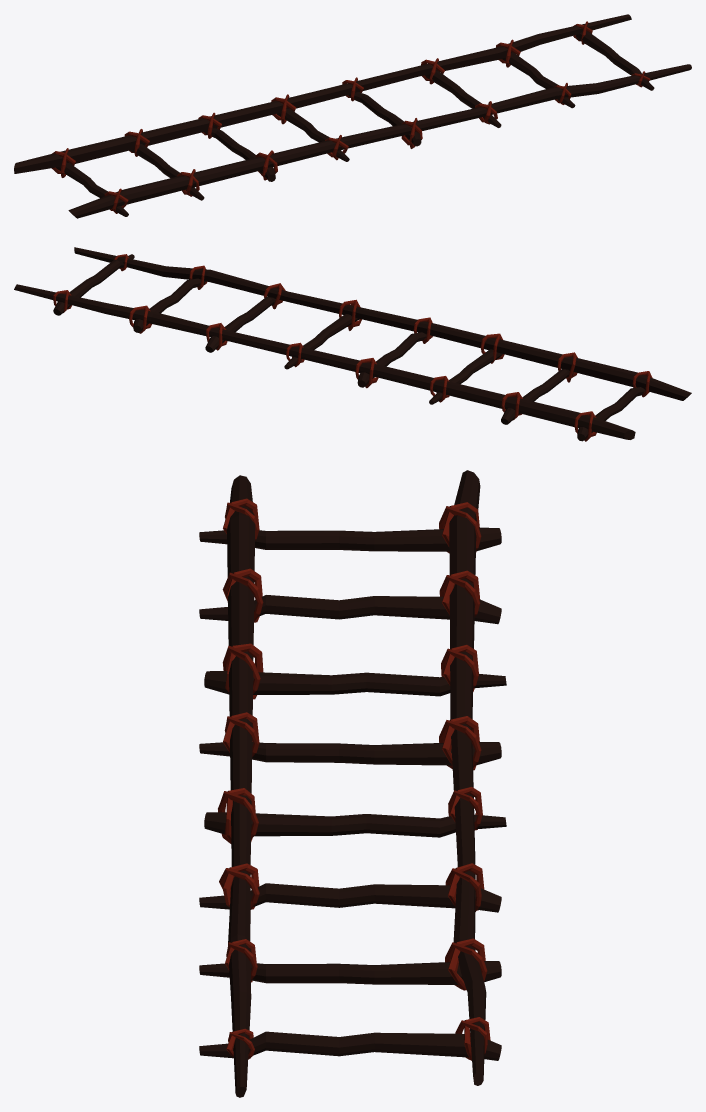
The model's file is ladder.FBX.
3 renders of one model, top to bottom at view 1: azimuth 30°, elevation 25°; view 2: azimuth 150°, elevation 25°; view 3: azimuth 270°, elevation 25°, orthographic. The views are drawn at different scales.
Parts seen in each view (by area): view 1: Ladder_01_mesh; view 2: Ladder_01_mesh; view 3: Ladder_01_mesh.
Part boxes in pixels (box(x1,y1,x2,y2)): Ladder_01_mesh: box(14, 14, 691, 218); Ladder_01_mesh: box(14, 247, 691, 441); Ladder_01_mesh: box(199, 470, 506, 1097).
Bounding box in the file's own units: 595 × 26.66 × 128.
